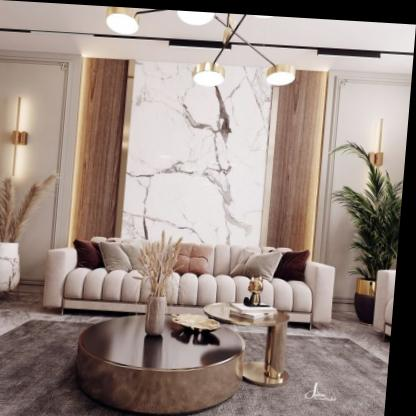Sofa: (48, 236, 338, 320)
Wall Panel: (81, 57, 329, 247)
